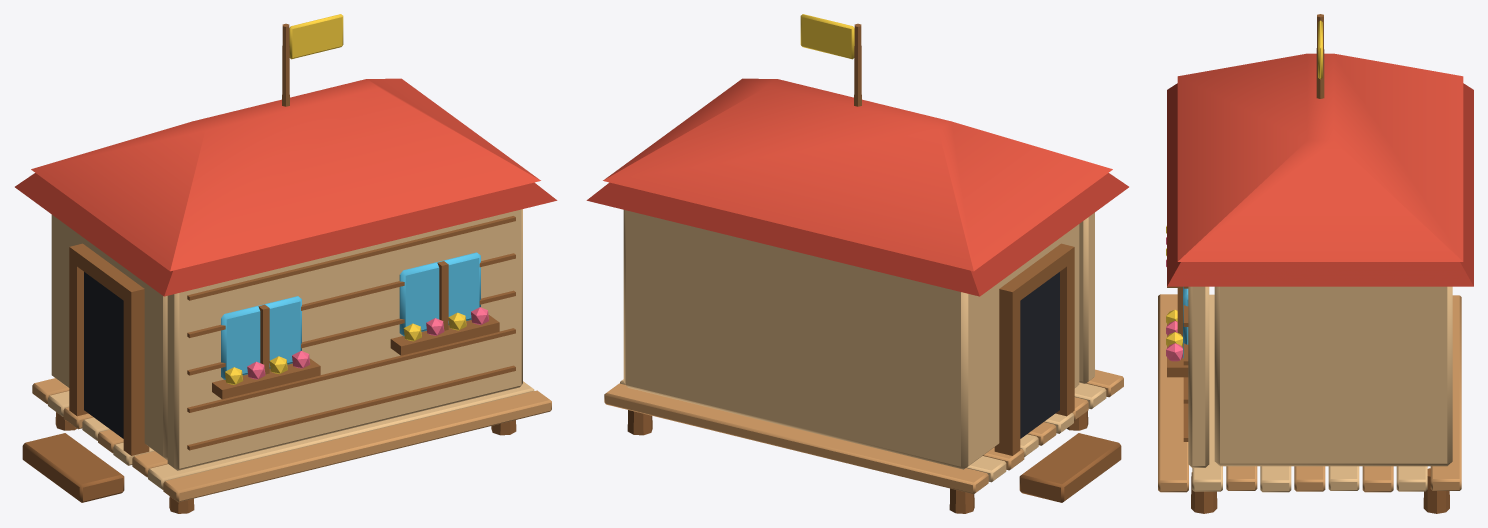
Rendered from qhouse.fbx.
The picture shows the model from 3 angles, left to right: view 1: azimuth 30°, elevation 25°; view 2: azimuth 150°, elevation 25°; view 3: azimuth 270°, elevation 25°; orthographic projection. The views are drawn at different scales.
Parts seen in each view (by area): view 1: qhouse; view 2: qhouse; view 3: qhouse.
Boxes of the visible parts, left/top/right/bottom form: qhouse: left=15, top=14, right=557, bottom=513; qhouse: left=586, top=14, right=1128, bottom=513; qhouse: left=1158, top=14, right=1473, bottom=513.
Bounding box in the file's own units: 1.93 × 1.72 × 1.19.
